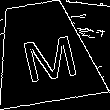M_N: (11, 24, 77, 82)
